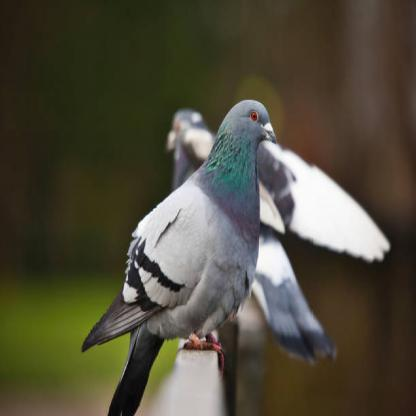Rock Pigeon: (84, 99, 282, 344), (168, 105, 214, 174)
